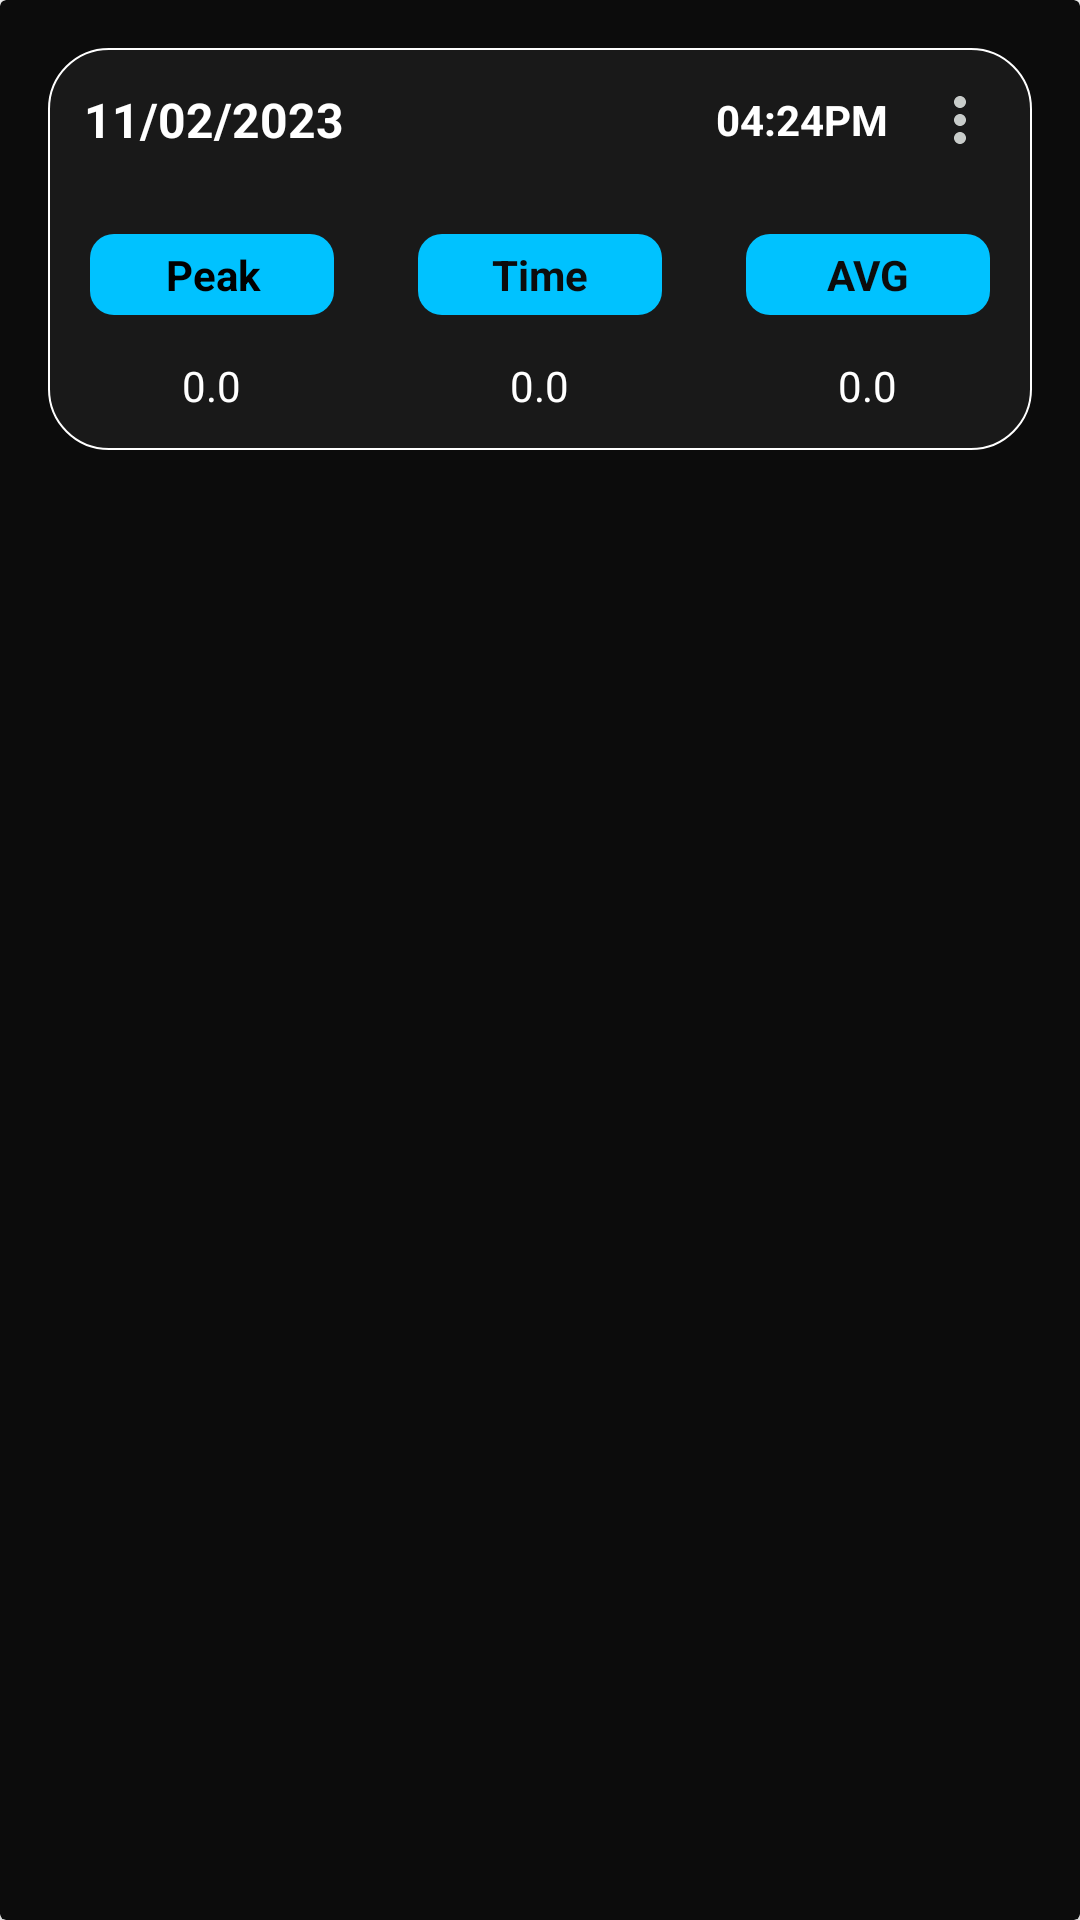

Icons on this 1080x1920 Android screen, each with its box as (x1, y1, x2, y2):
more vert: (954, 96, 966, 144)
